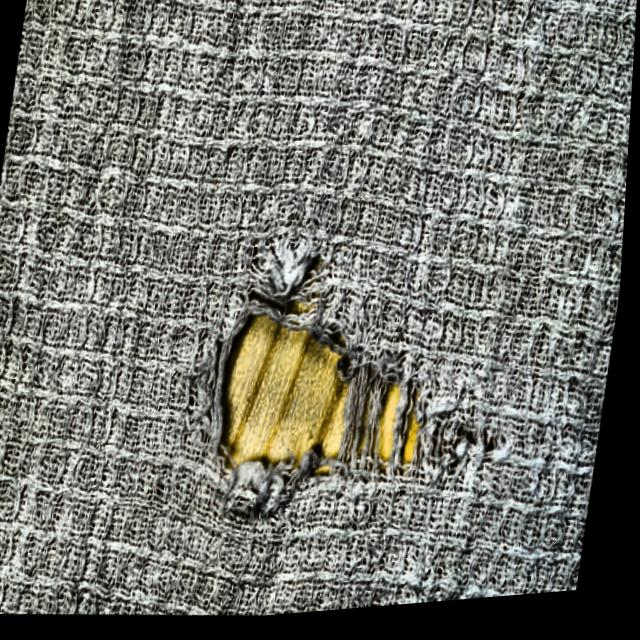Hole: (154, 194, 578, 576)
